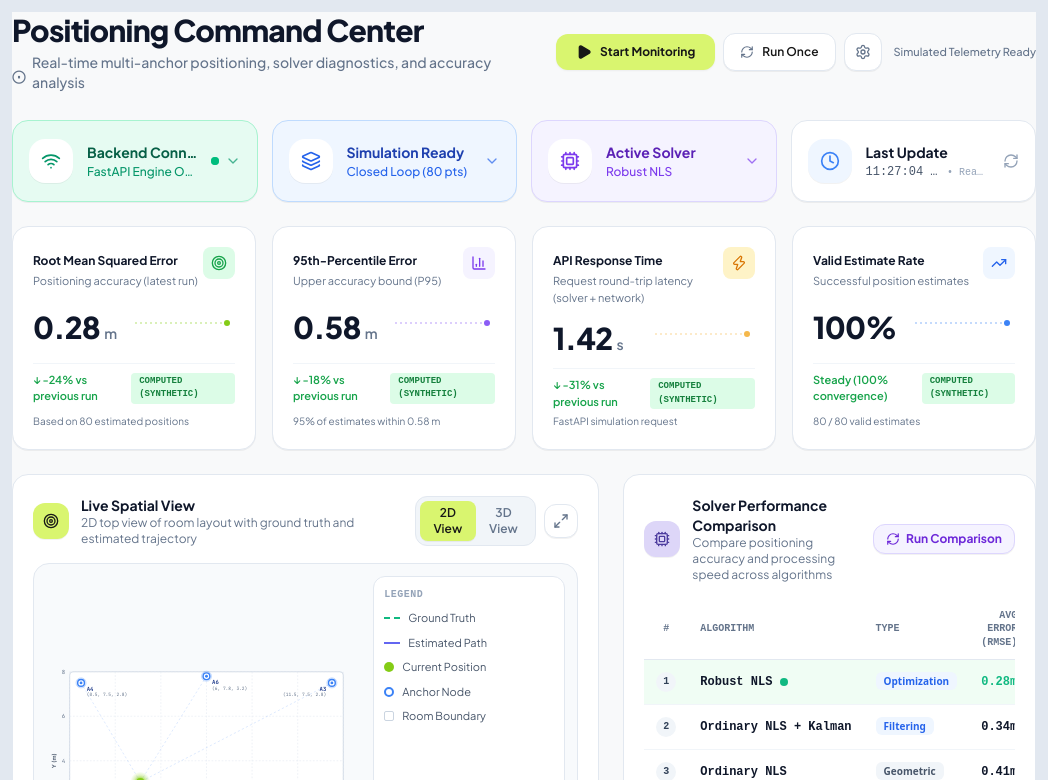
Scenario: Phase 6.3: Dynamic Live Telemetry Command Center › runs solver comparison using real backend API
The image size is (1048, 780).
Step 1. Click the button "Run Comparison" → (944, 539), box [873,524,1015,554]
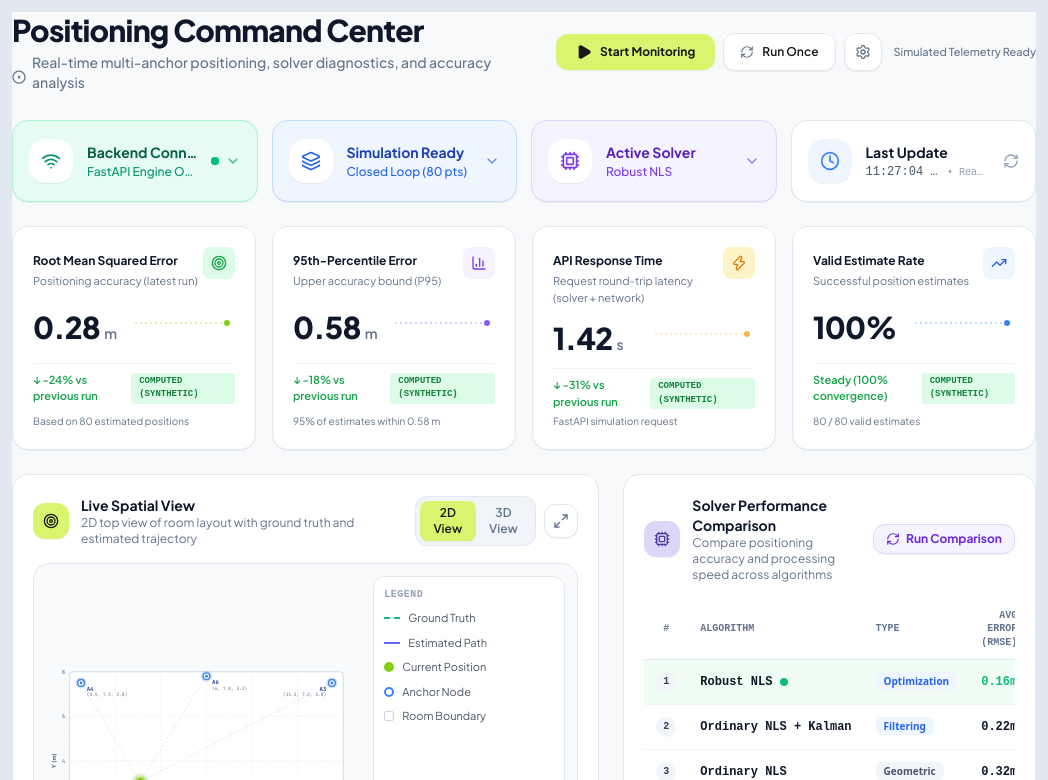
Now the text "0.16m" is shown, box [969,660,1015,704]
Now the text "0.22m" is shown, box [969,704,1015,750]
